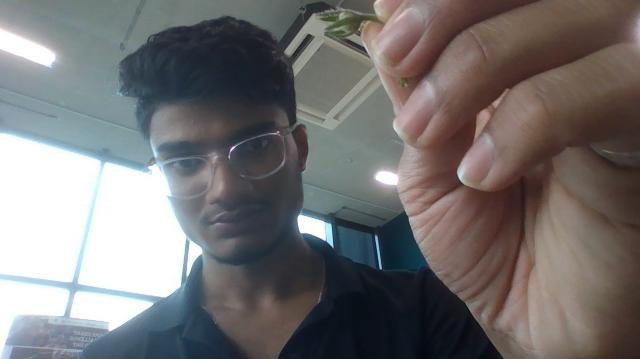Fruit Bud: (319, 11, 374, 37), (328, 8, 360, 35)
